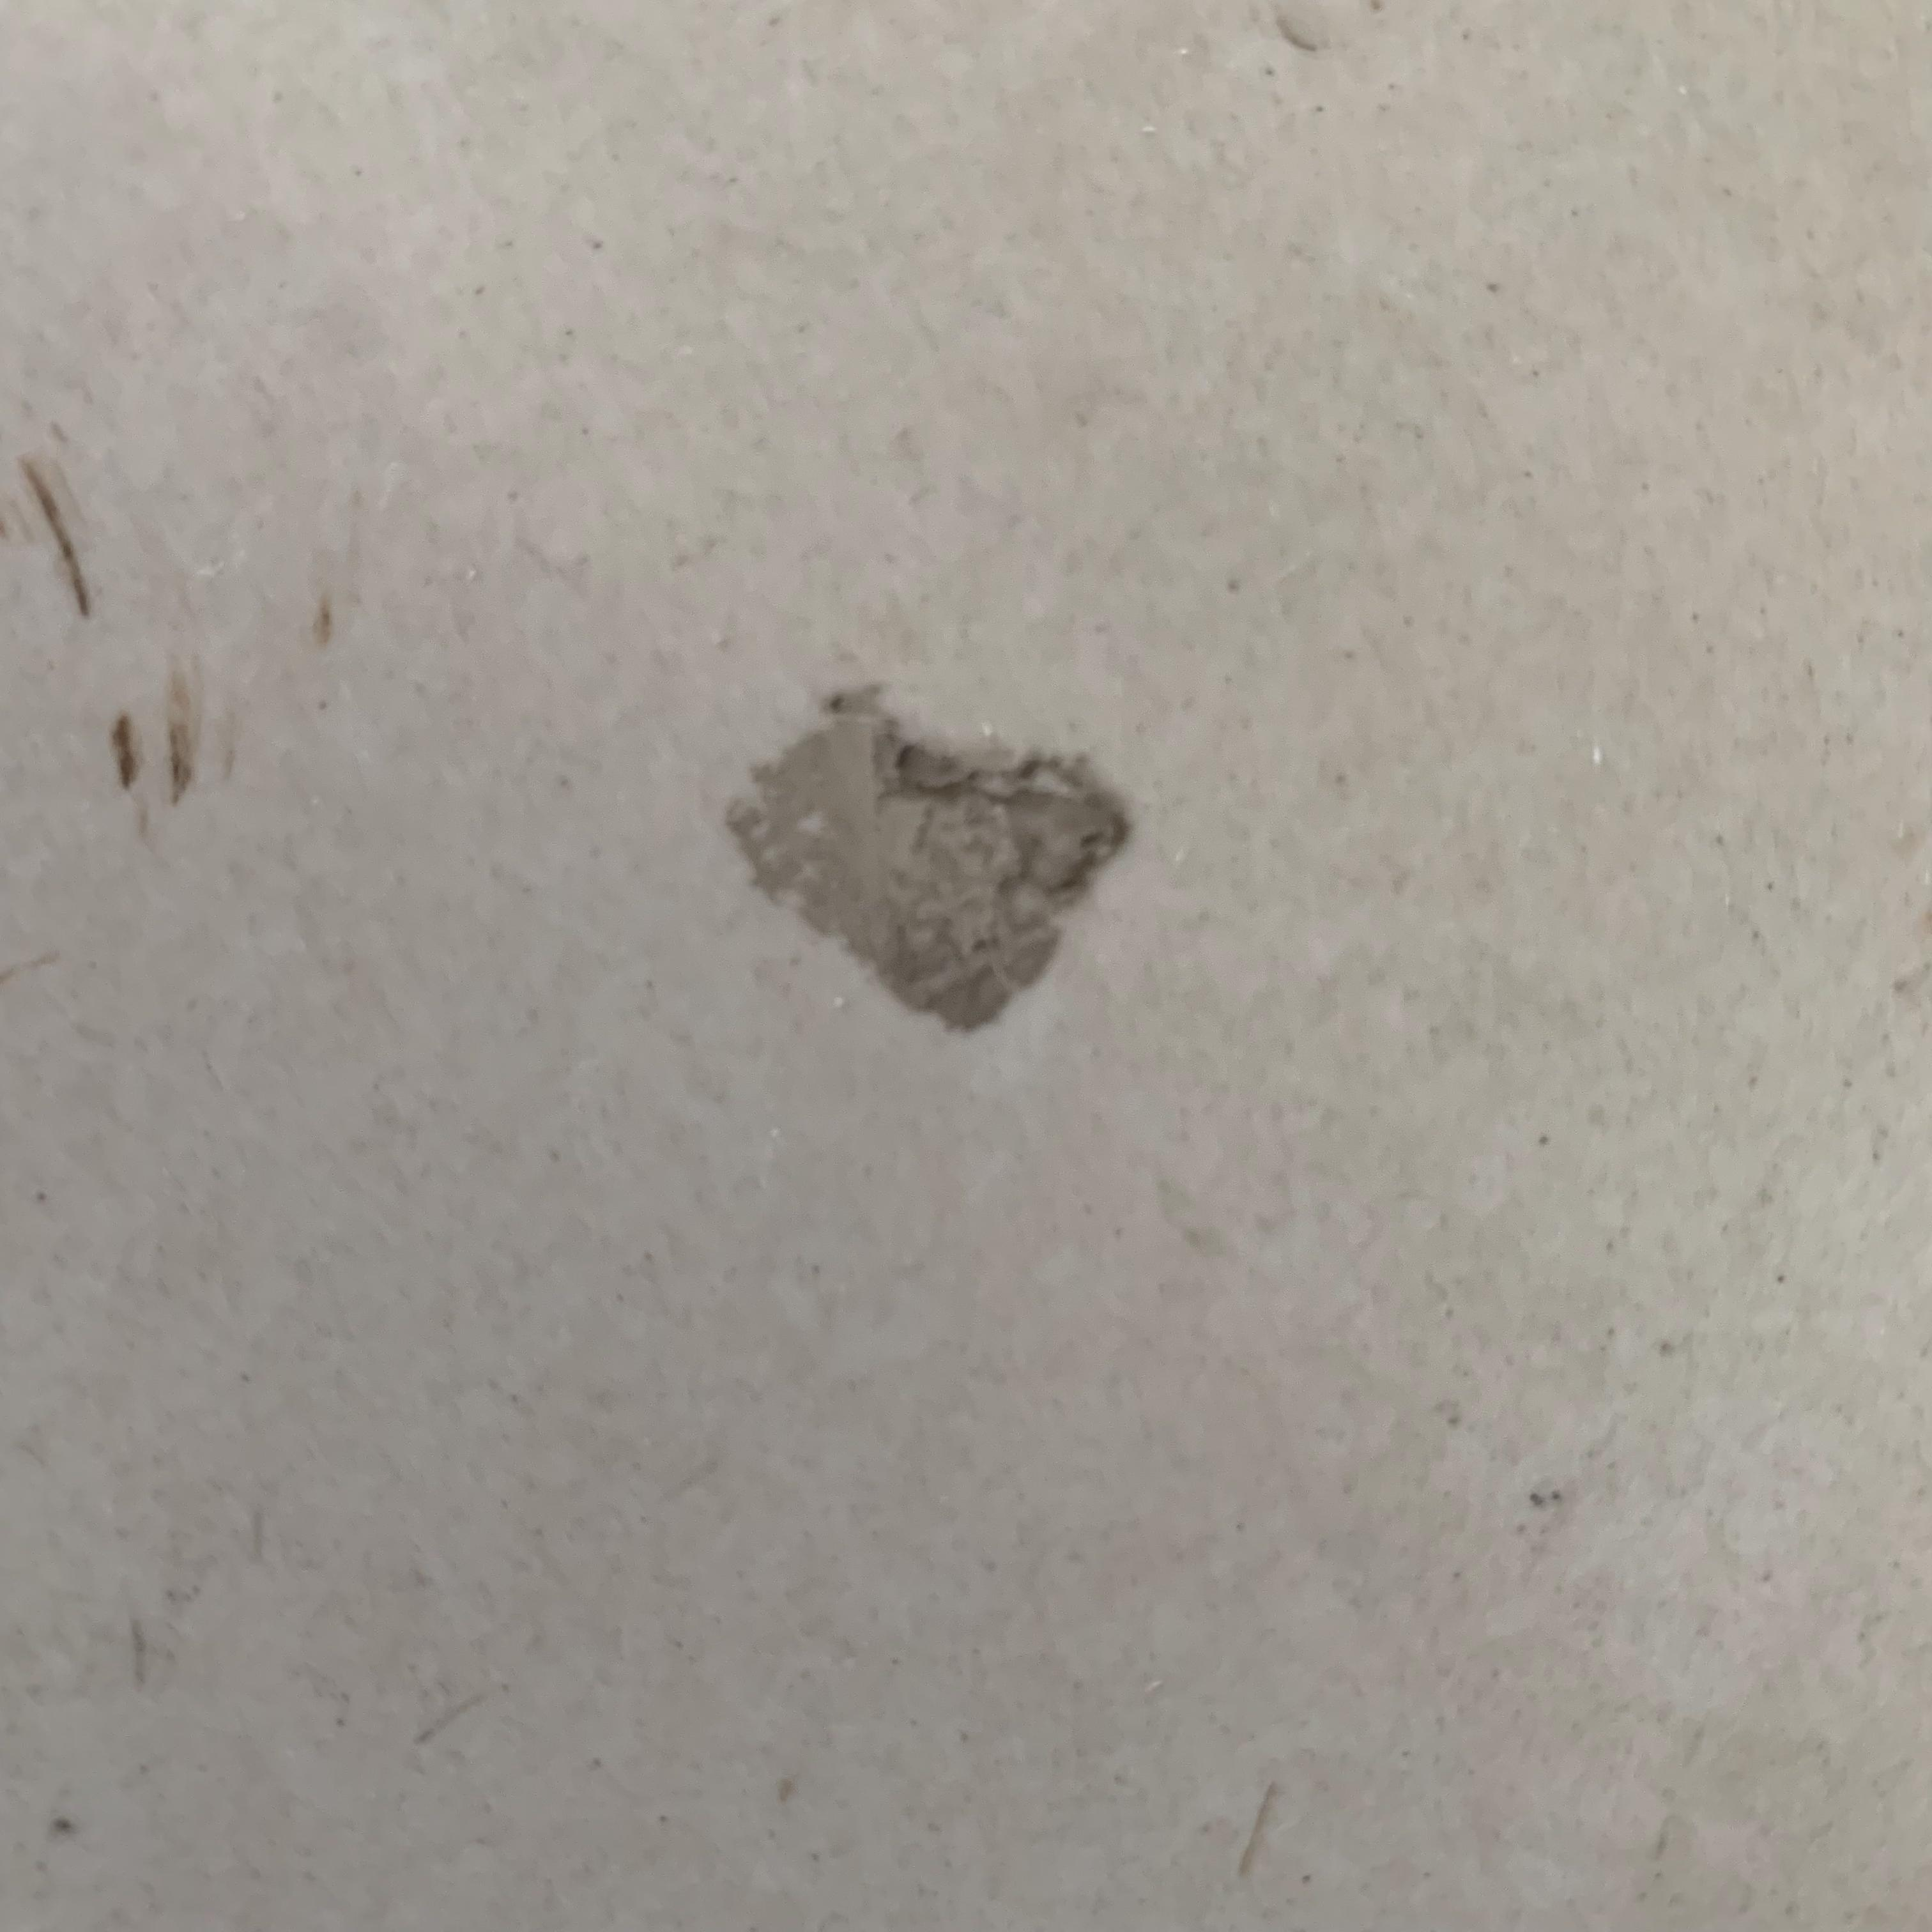grey spot: (718, 685, 1129, 1039)
